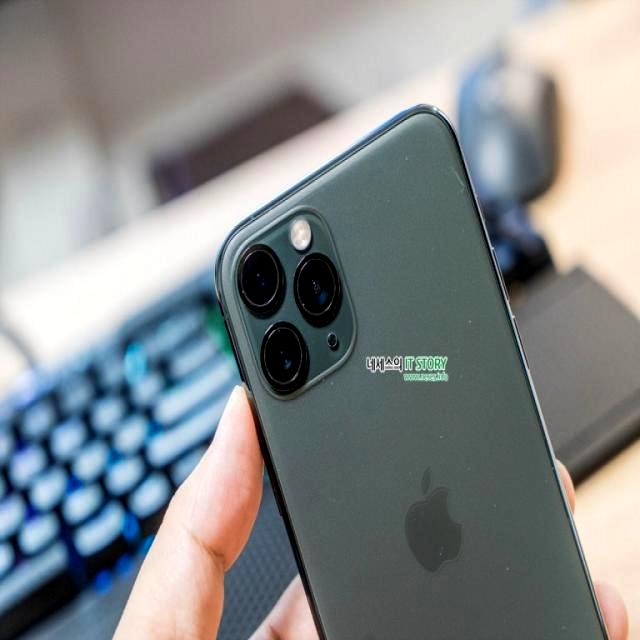lens_back: (293, 251, 342, 325), (235, 243, 284, 312), (260, 321, 308, 391)
phone: (210, 107, 613, 640)
